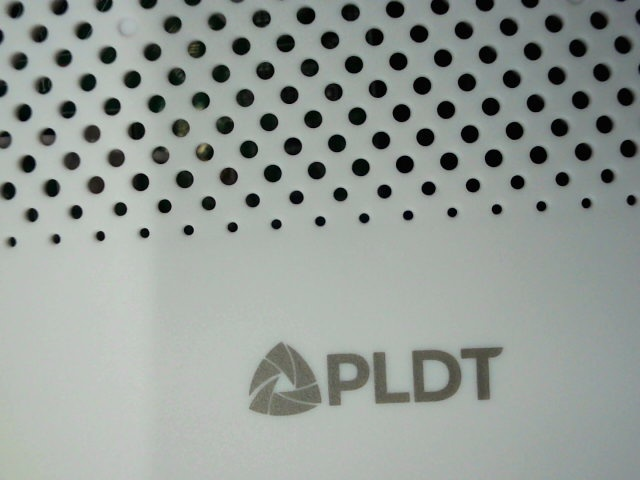BH_PLDT: (229, 330, 520, 427)
